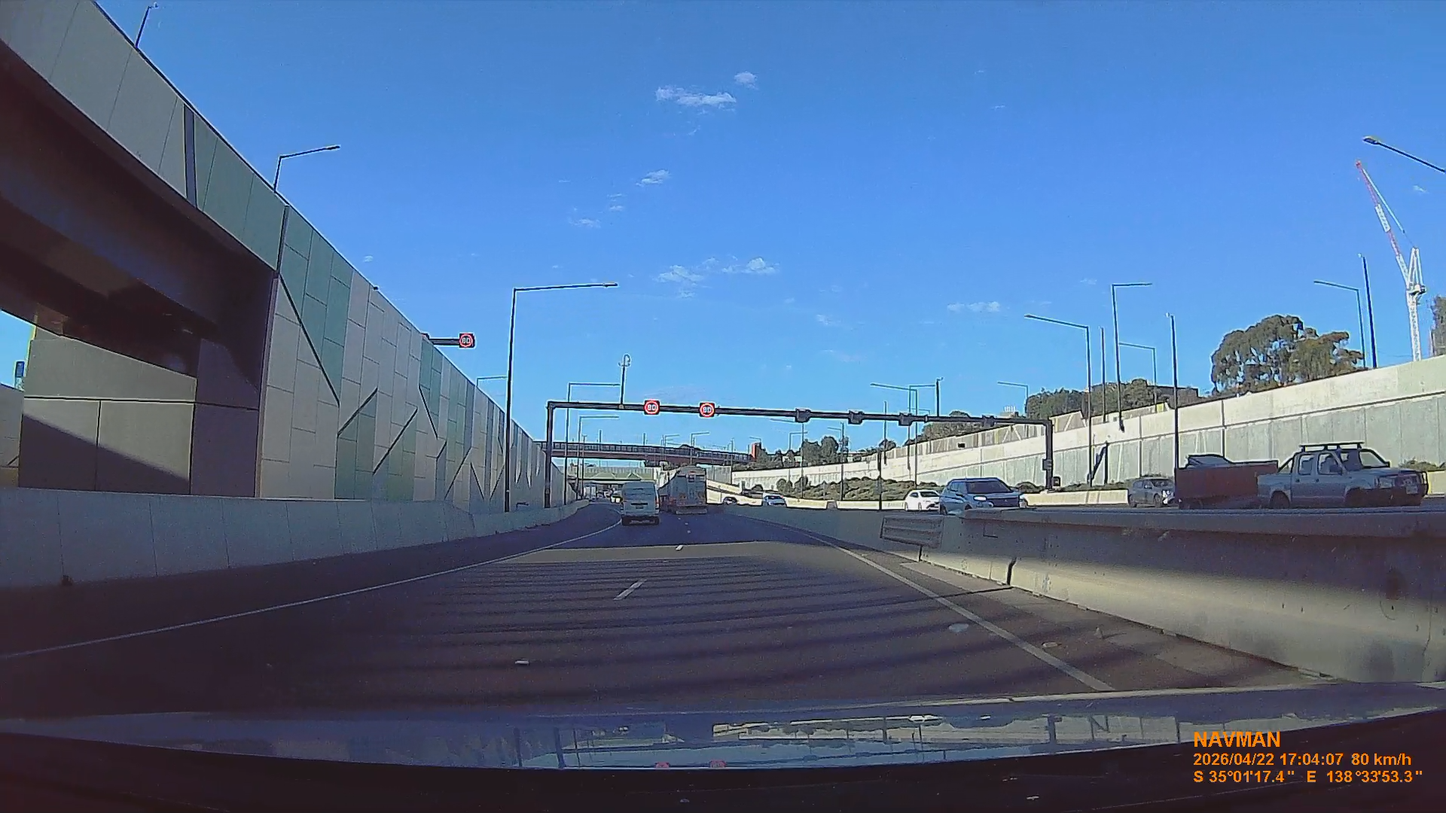fences: (1049, 389, 1175, 434)
road barriers: (732, 507, 1445, 682), (0, 489, 585, 589)
